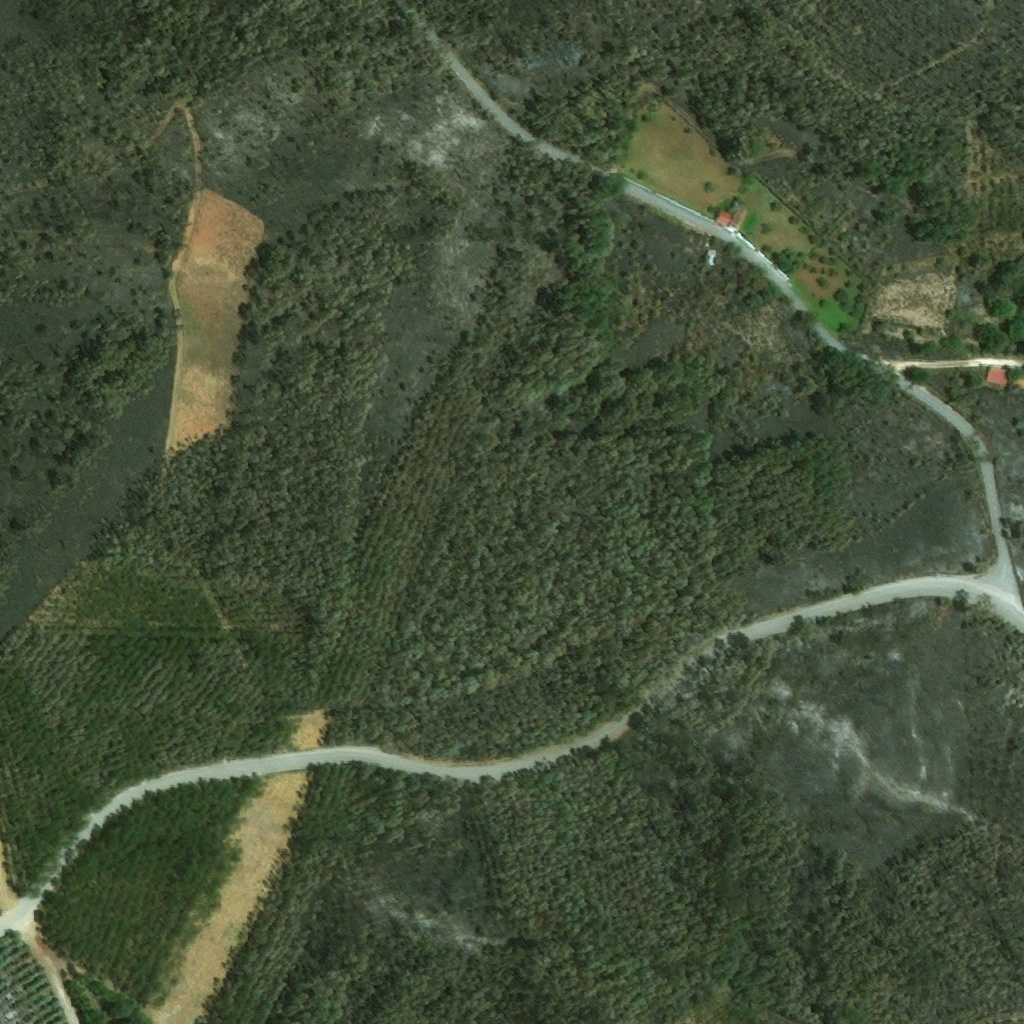0 no-damage: (714, 203, 749, 234), (983, 367, 1009, 389)
1 minor-damage: (700, 246, 719, 267)
4 un-classified: (762, 128, 785, 152), (1012, 374, 1023, 389)
